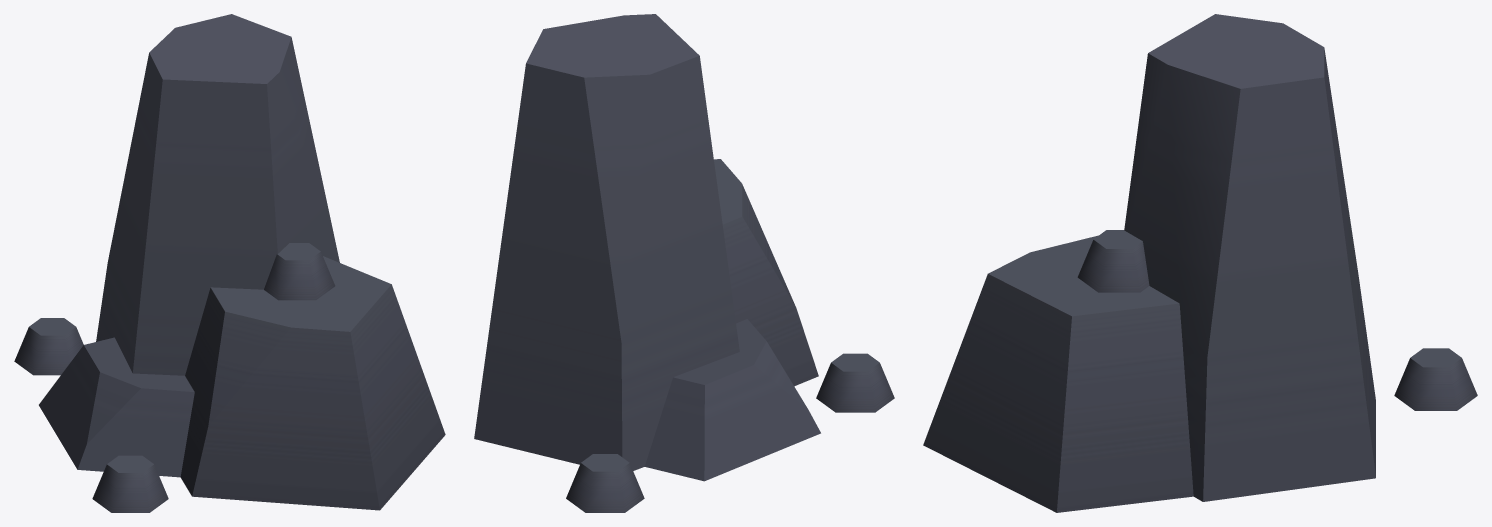
Rendered from rock-small.glb.
3 renders of one model, left to right at view 1: azimuth 30°, elevation 25°; view 2: azimuth 150°, elevation 25°; view 3: azimuth 270°, elevation 25°, orthographic. The views are drawn at different scales.
Visible parts, largest first — view 1: rock-small; view 2: rock-small; view 3: rock-small.
Boxes of the visible parts, x1,y1,x2,y2 form: rock-small: (14, 14, 445, 512); rock-small: (474, 14, 894, 512); rock-small: (923, 14, 1477, 512).
Bounding box in the file's own units: 0.9983 × 1.02 × 1.33.
Materials: 1 (1 with a texture image).
